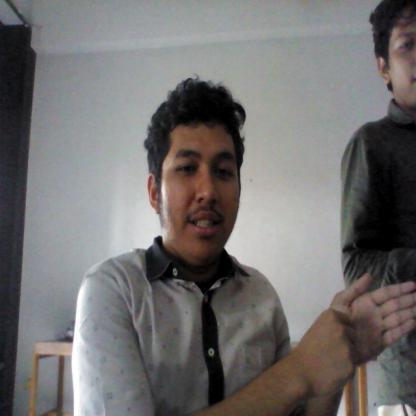Nama: (274, 250, 416, 388)
